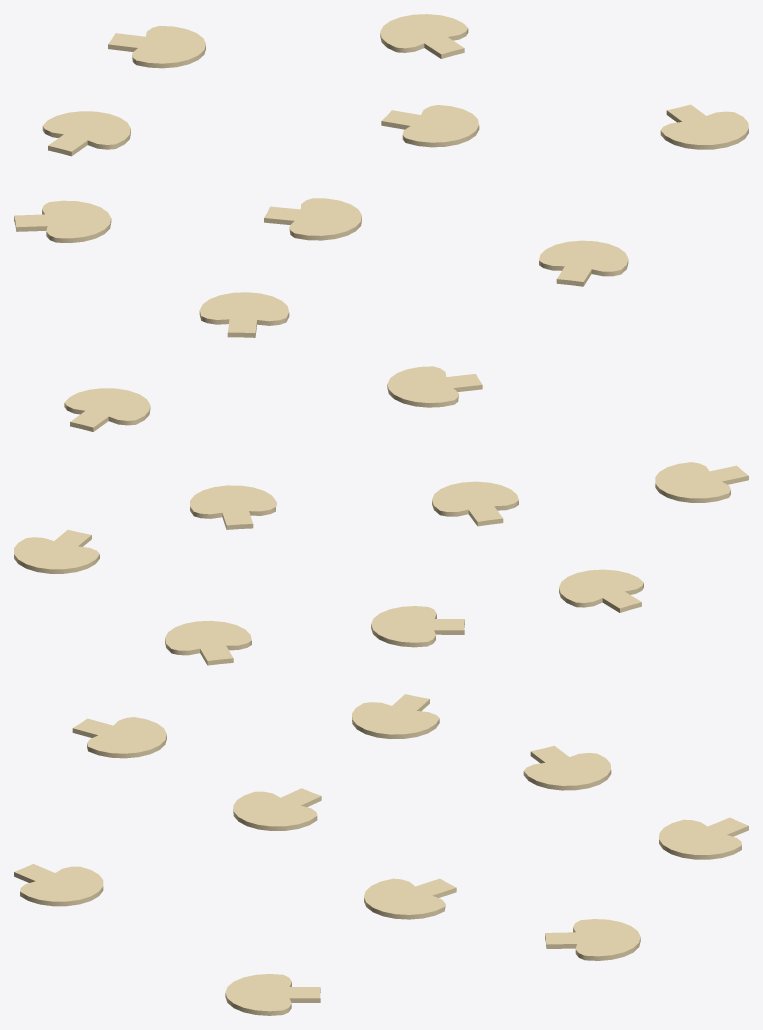
Rendered from mushroom.glb.
3 views of the same model, one above another, from view 1: azimuth 30°, elevation 25°; view 2: azimuth 150°, elevation 25°; view 3: azimuth 270°, elevation 25° (orthographic). The views are drawn at different scales.
Visible parts, largest first — view 1: mushroom11; view 2: mushroom11; view 3: mushroom11.
Part boxes in pixels (<box>): mushroom11: <box>14,14,748,337</box>; mushroom11: <box>14,366,748,665</box>; mushroom11: <box>14,694,748,1015</box>.
Size of the model in its own units: 0.2937 by 0.002 by 0.2875.
